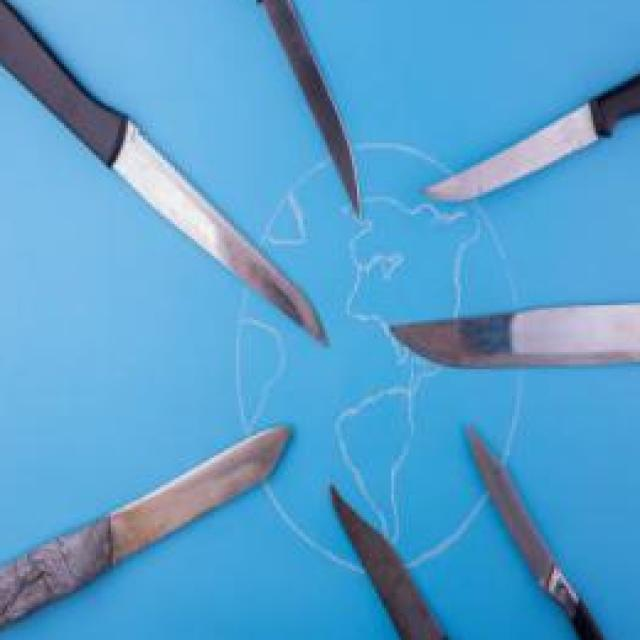knife: (0, 0, 328, 344), (0, 421, 291, 628), (416, 22, 640, 204), (460, 418, 630, 640), (226, 0, 362, 219), (328, 480, 470, 640), (386, 298, 640, 359)
